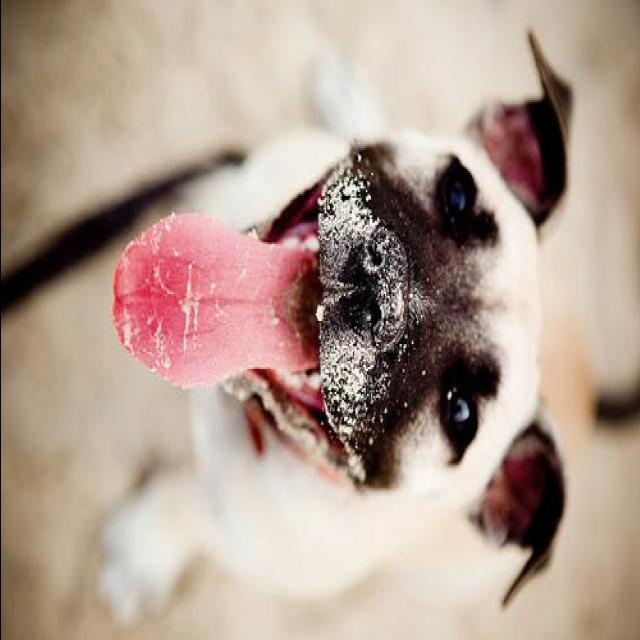staffordshire_bullterrier: (96, 28, 576, 624)
